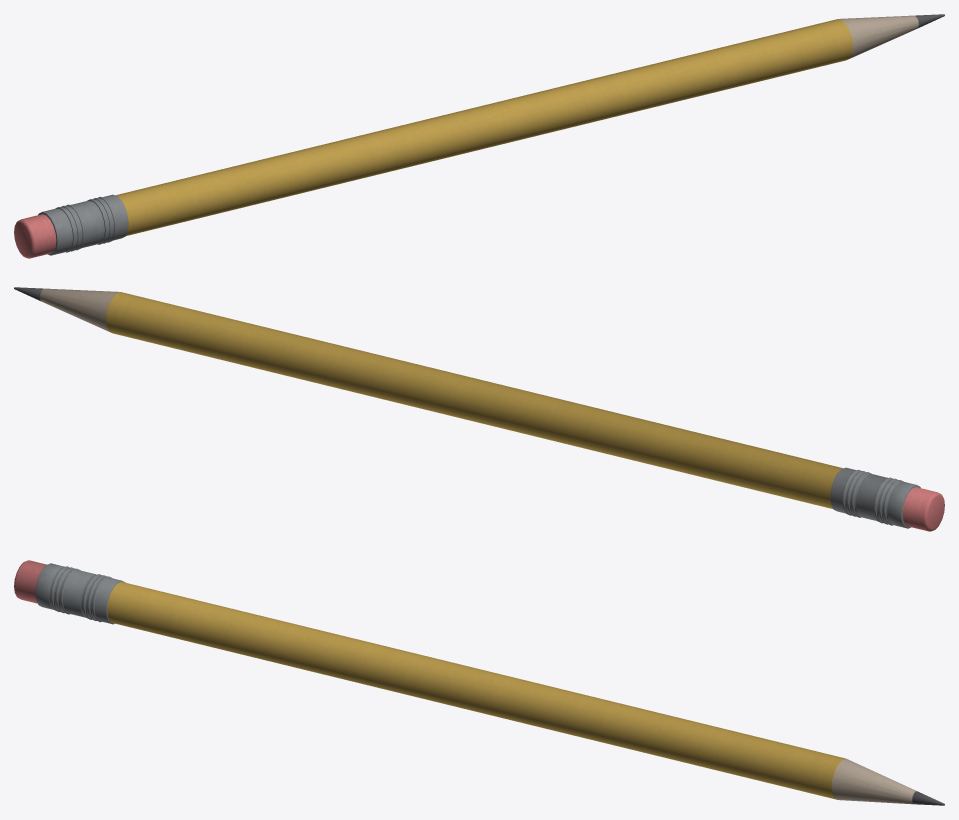
The model's file is simple_pencil.glb.
The picture shows the model from 3 angles, top to bottom: view 1: azimuth 30°, elevation 25°; view 2: azimuth 150°, elevation 25°; view 3: azimuth 330°, elevation 25°; orthographic projection.
Parts seen in each view (by area): view 1: Object_2; view 2: Object_2; view 3: Object_2.
Boxes of the visible parts, <box> form: Object_2: <box>14,14,944,258</box>; Object_2: <box>14,287,944,531</box>; Object_2: <box>14,560,944,805</box>.
Size of the model in its own units: 8.59 by 0.3768 by 0.3768.
1 material, 1 textured.
